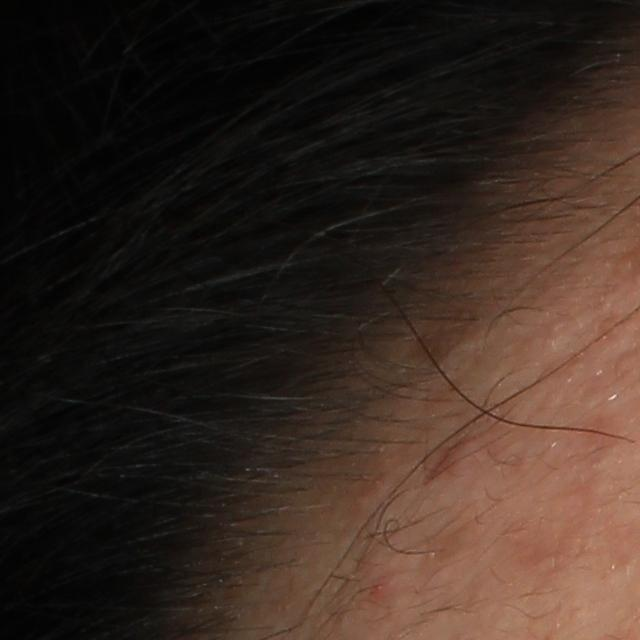papule: (370, 577, 396, 604)
